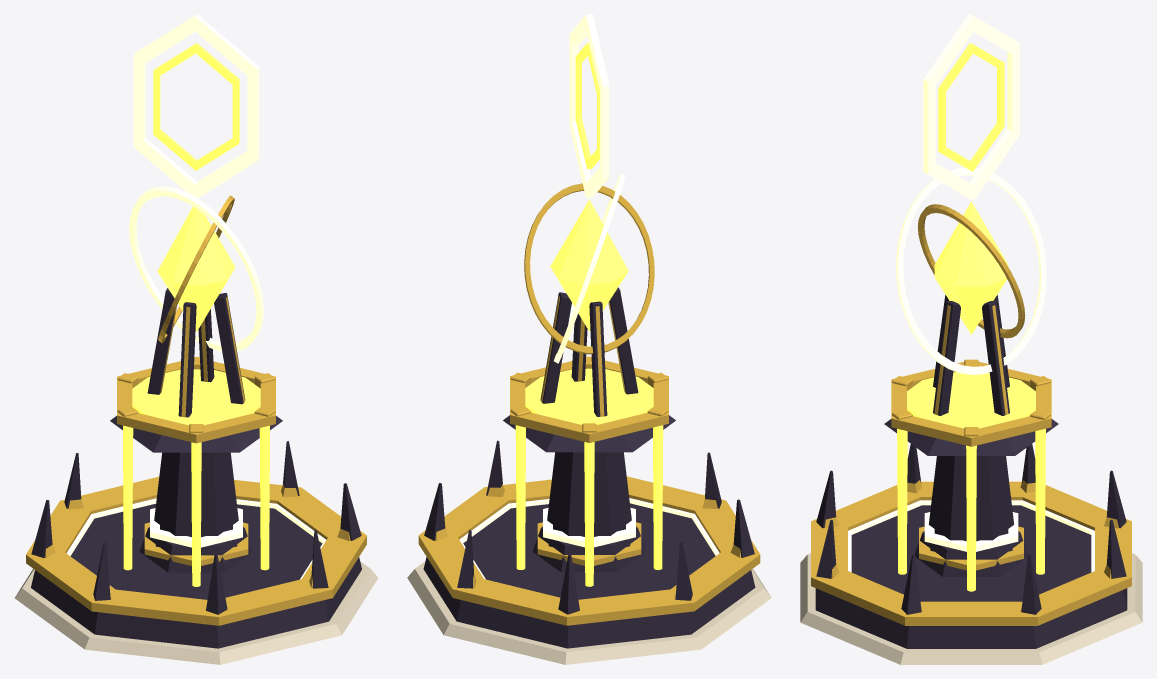
File: Hub_Brunnen.fbx
3 renders of one model, left to right at view 1: azimuth 30°, elevation 25°; view 2: azimuth 150°, elevation 25°; view 3: azimuth 270°, elevation 25°, orthographic.
Visible parts, largest first — view 1: Hub_Brunnen_Schiefer, Hub_Brunnen_Gold, Hub_Brunnen_GoldNeon, Hub_Brunnen_HonigNeon, Hub_Brunnen_Sandstein, Hub_Brunnen_Tropfen; view 2: Hub_Brunnen_Schiefer, Hub_Brunnen_Gold, Hub_Brunnen_HonigNeon, Hub_Brunnen_Sandstein, Hub_Brunnen_GoldNeon, Hub_Brunnen_Tropfen; view 3: Hub_Brunnen_Schiefer, Hub_Brunnen_Gold, Hub_Brunnen_GoldNeon, Hub_Brunnen_HonigNeon, Hub_Brunnen_Sandstein, Hub_Brunnen_Tropfen.
Part boxes in pixels (x1,y1,x2,y2): Hub_Brunnen_Schiefer: (31,288,361,648); Hub_Brunnen_Gold: (26,195,366,625); Hub_Brunnen_GoldNeon: (66,14,326,579); Hub_Brunnen_HonigNeon: (123,43,269,586); Hub_Brunnen_Sandstein: (15,561,377,664); Hub_Brunnen_Tropfen: (157,206,235,332); Hub_Brunnen_Schiefer: (423,287,755,648); Hub_Brunnen_Gold: (418,183,760,625); Hub_Brunnen_HonigNeon: (515,43,663,586); Hub_Brunnen_Sandstein: (407,561,771,664); Hub_Brunnen_GoldNeon: (459,14,719,579); Hub_Brunnen_Tropfen: (550,199,628,331); Hub_Brunnen_Schiefer: (815,295,1127,648); Hub_Brunnen_Gold: (811,204,1131,625); Hub_Brunnen_GoldNeon: (848,14,1094,572); Hub_Brunnen_HonigNeon: (897,43,1045,591); Hub_Brunnen_Sandstein: (800,553,1142,664); Hub_Brunnen_Tropfen: (934,201,1008,334).
Size of the model in its own units: 15.2 by 28.31 by 15.2.
